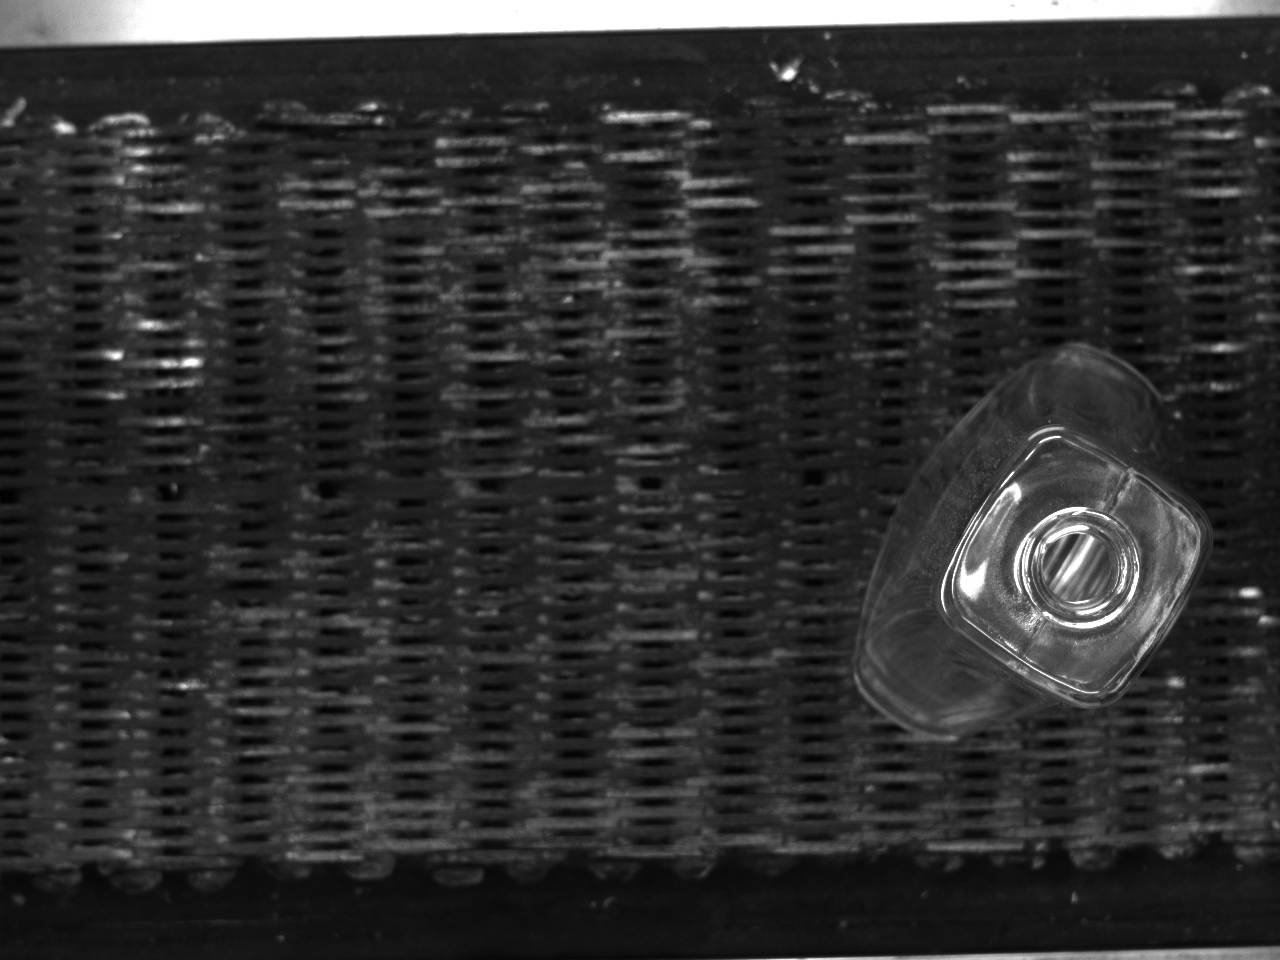bottleneck: (1024, 507, 1142, 631)
